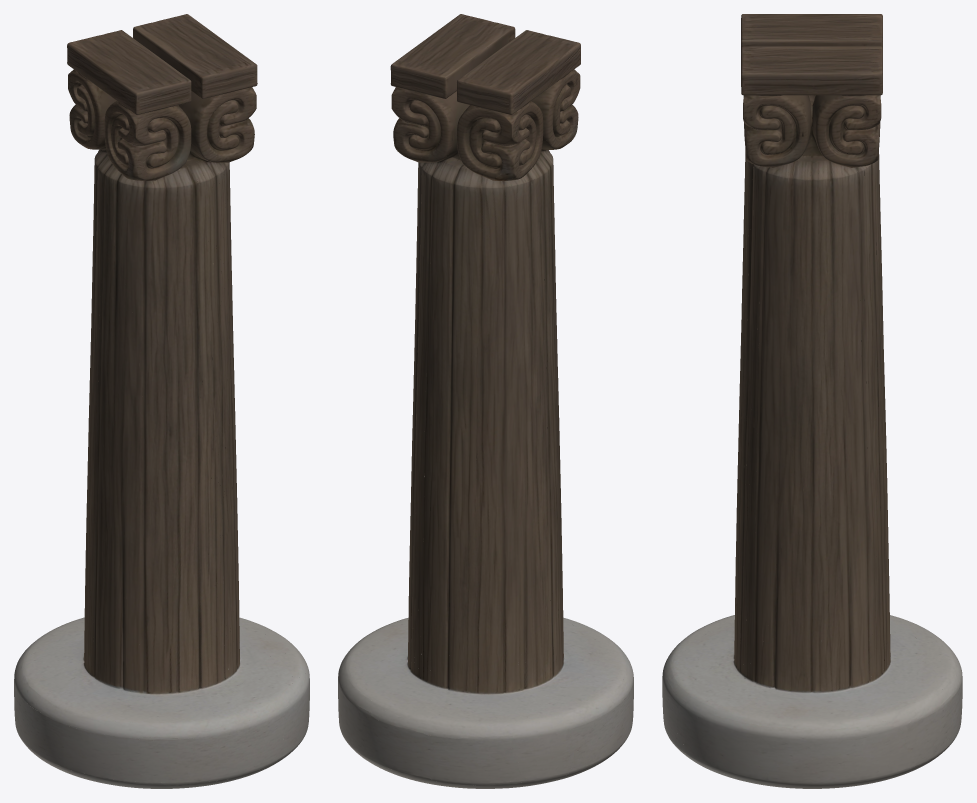
File: Urartian_Wooden_Column_opt.glb
3 renders of one model, left to right at view 1: azimuth 30°, elevation 25°; view 2: azimuth 150°, elevation 25°; view 3: azimuth 270°, elevation 25°, orthographic.
Parts seen in each view (by area): view 1: material; view 2: material; view 3: material.
Part boxes in pixels (left/top/right/bottom): material: left=14, top=14, right=309, bottom=788; material: left=338, top=14, right=633, bottom=788; material: left=662, top=14, right=962, bottom=788.
Size of the model in its own units: 0.4474 by 1.13 by 0.4478.
1 material, 1 textured.
